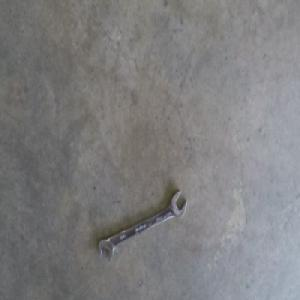Wrench: (98, 190, 187, 261)
